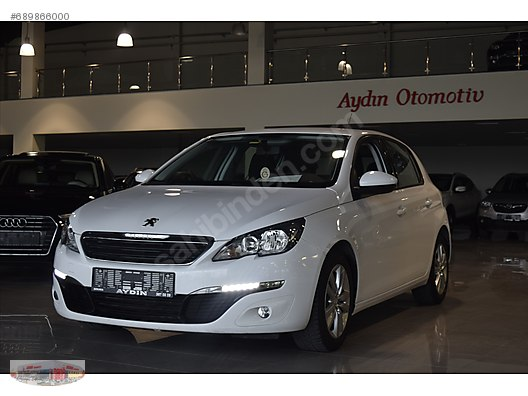peugeot: (44, 125, 455, 345)
